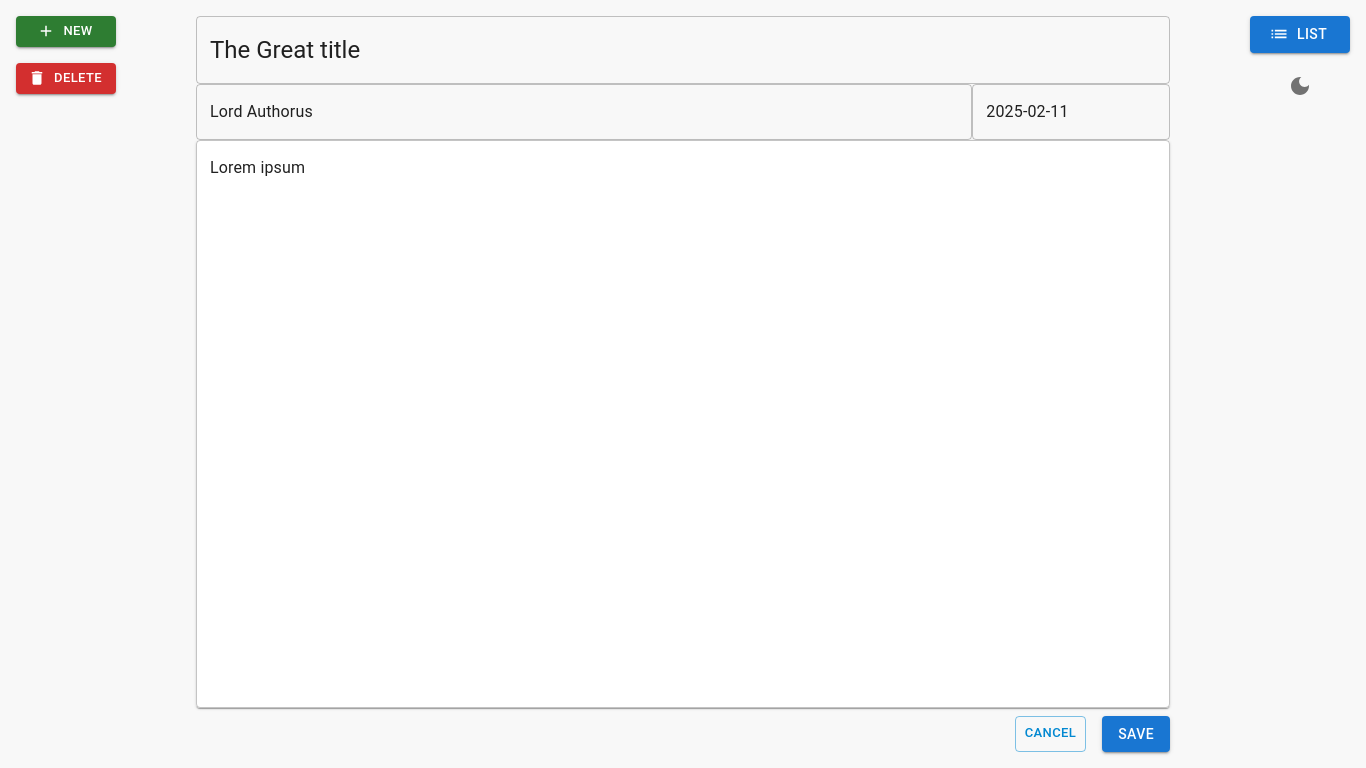
can switch back to view mode
Click the button "cancel": point(1050, 734) top-left (1015, 716), bottom-right (1086, 752)
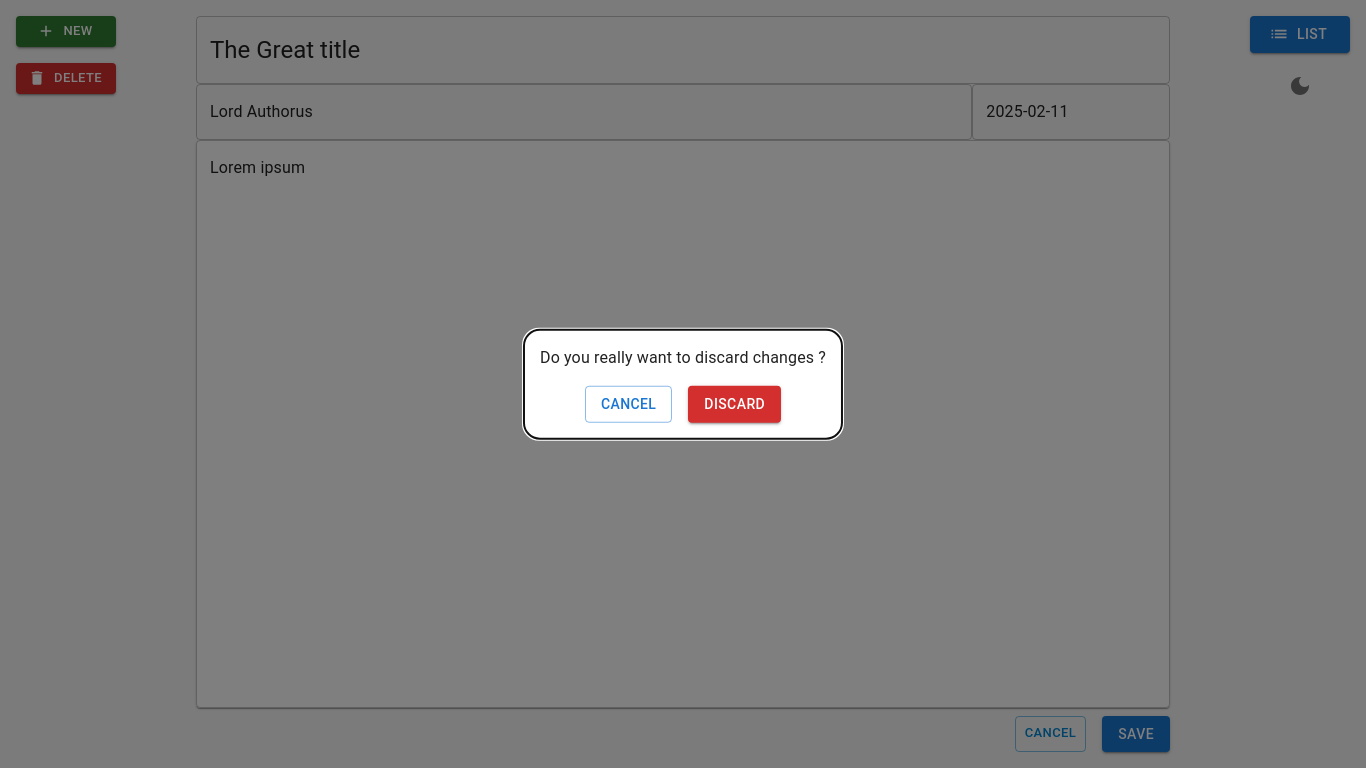
Click the button "discard": point(735, 404) top-left (688, 386), bottom-right (781, 422)
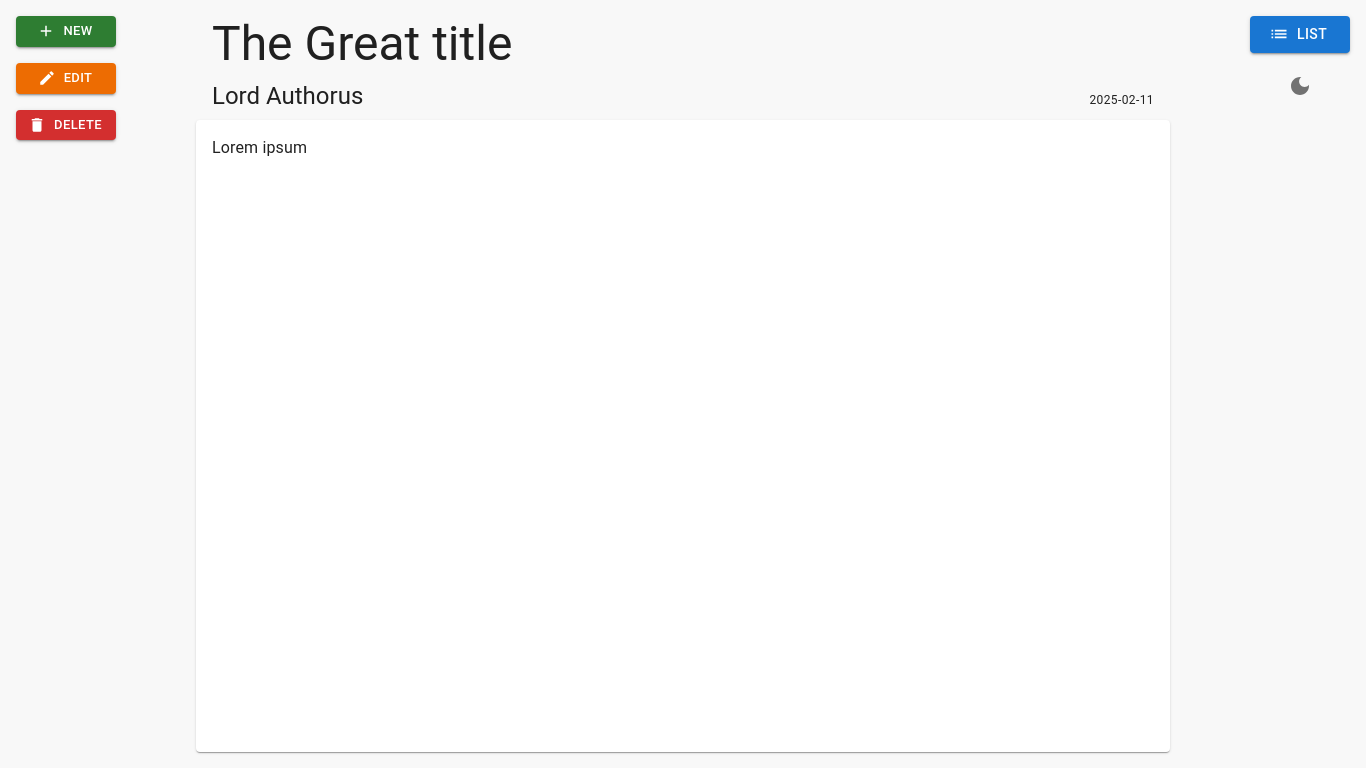
expect the button "edit" is shown: met, box top-left (16, 63), bottom-right (116, 94)
